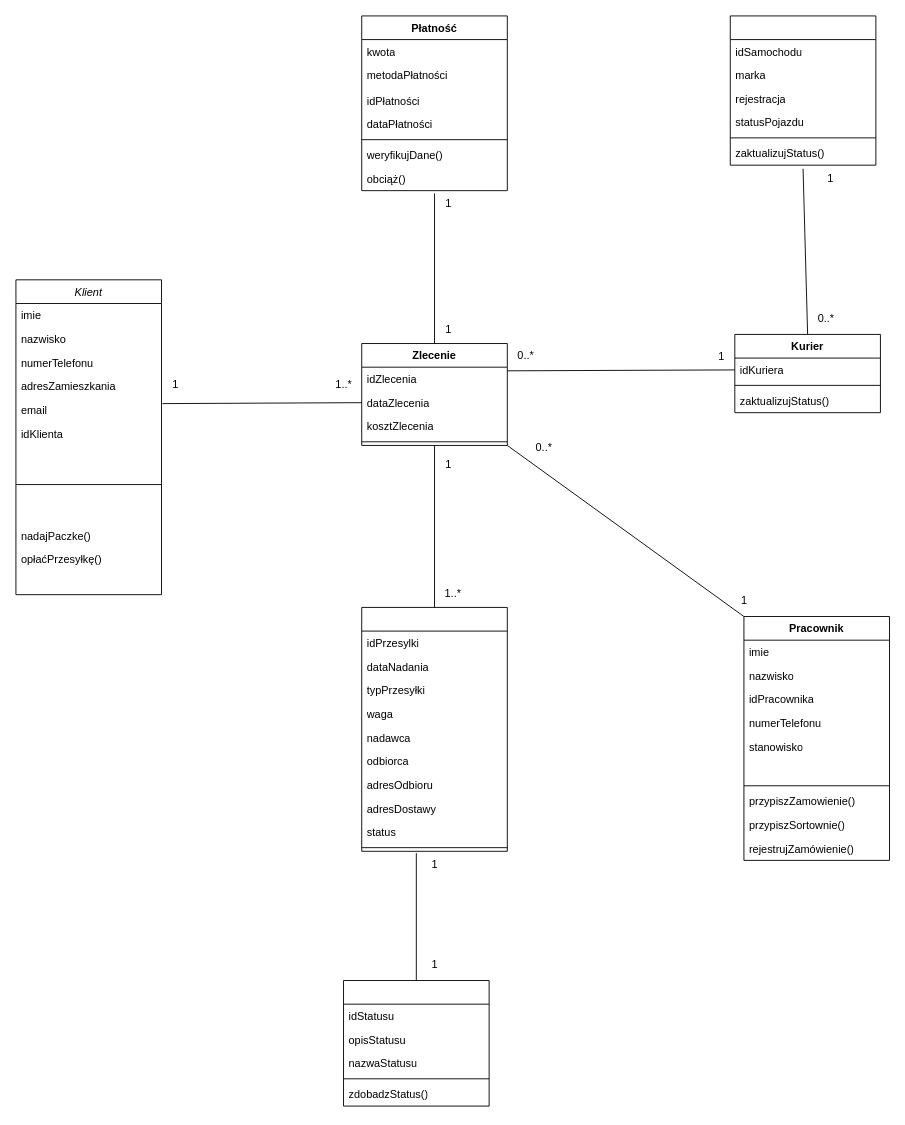
Image size: 905x1125. Some labels were removed from this diagram. Here are the shapes that lost their labels. From the top down, the box of each, then its label:
(729, 15, 876, 165): Samochód
(361, 607, 507, 851): Przesyłka
(343, 980, 489, 1106): Status Przesyłki
